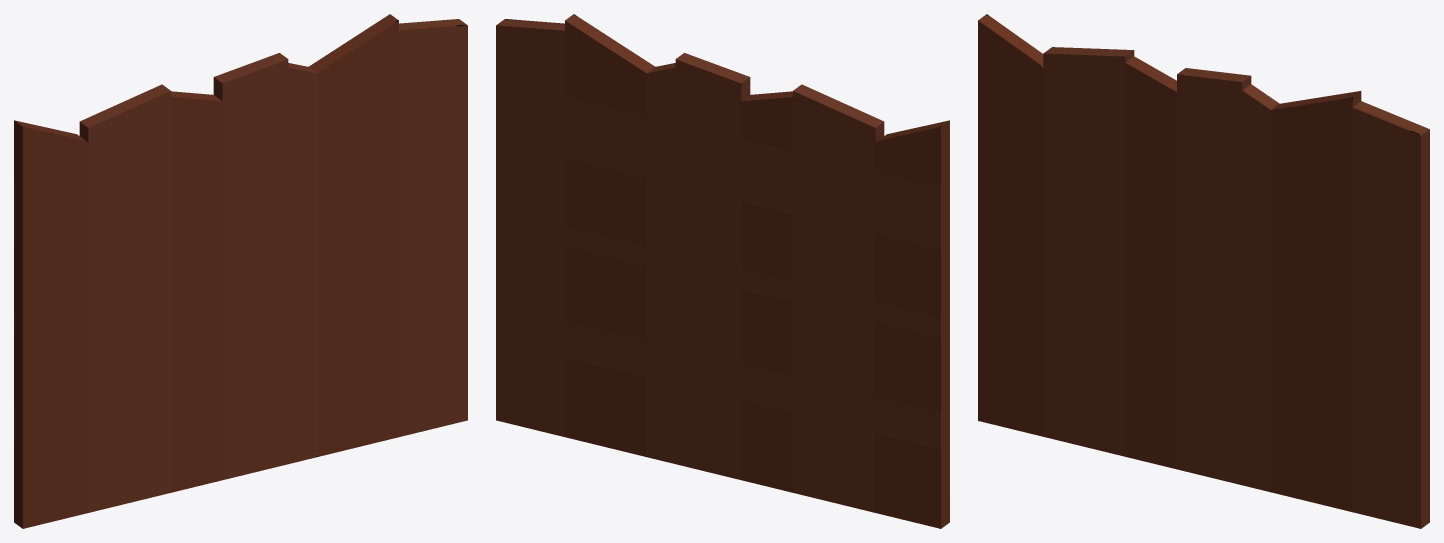
File: Ограда.fbx
3 views of the same model, side by side, from view 1: azimuth 30°, elevation 25°; view 2: azimuth 150°, elevation 25°; view 3: azimuth 330°, elevation 25° (orthographic).
Parts seen in each view (by area): view 1: Cube.001; view 2: Cube.001; view 3: Cube.001.
Part boxes in pixels (x1,y1,x2,y2): Cube.001: [14, 14, 467, 528]; Cube.001: [496, 14, 949, 528]; Cube.001: [978, 14, 1429, 528].
Bounding box in the file's own units: 2.31 × 2.07 × 0.0796.
Materials: 1 (1 with a texture image).
